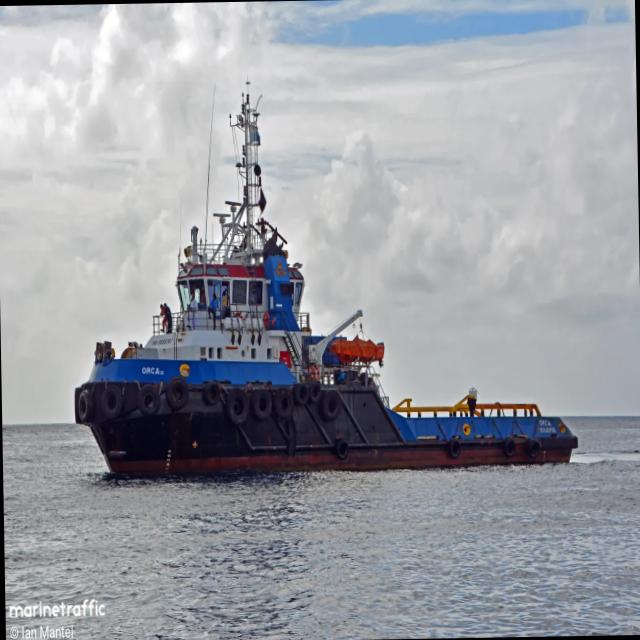Tug: (74, 93, 577, 474)
